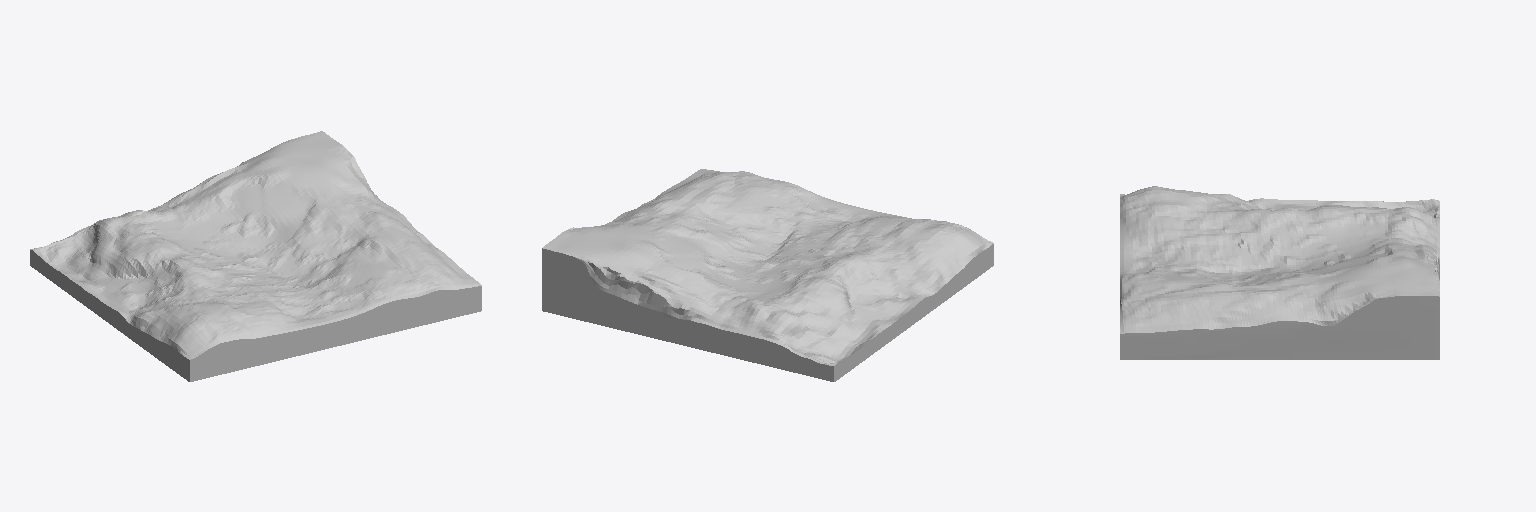
Rendered from terrainMoulin_07.obj.
3 renders of one model, left to right at view 1: azimuth 30°, elevation 25°; view 2: azimuth 150°, elevation 25°; view 3: azimuth 270°, elevation 25°, orthographic.
Parts seen in each view (by area): view 1: terrainMoulin_06:pCube2; view 2: terrainMoulin_06:pCube2; view 3: terrainMoulin_06:pCube2.
Part boxes in pixels (bbox=[...]): terrainMoulin_06:pCube2: bbox=[30, 131, 481, 381]; terrainMoulin_06:pCube2: bbox=[542, 169, 993, 381]; terrainMoulin_06:pCube2: bbox=[1120, 186, 1439, 359].
Bounding box in the file's own units: 8.45 × 1.78 × 8.